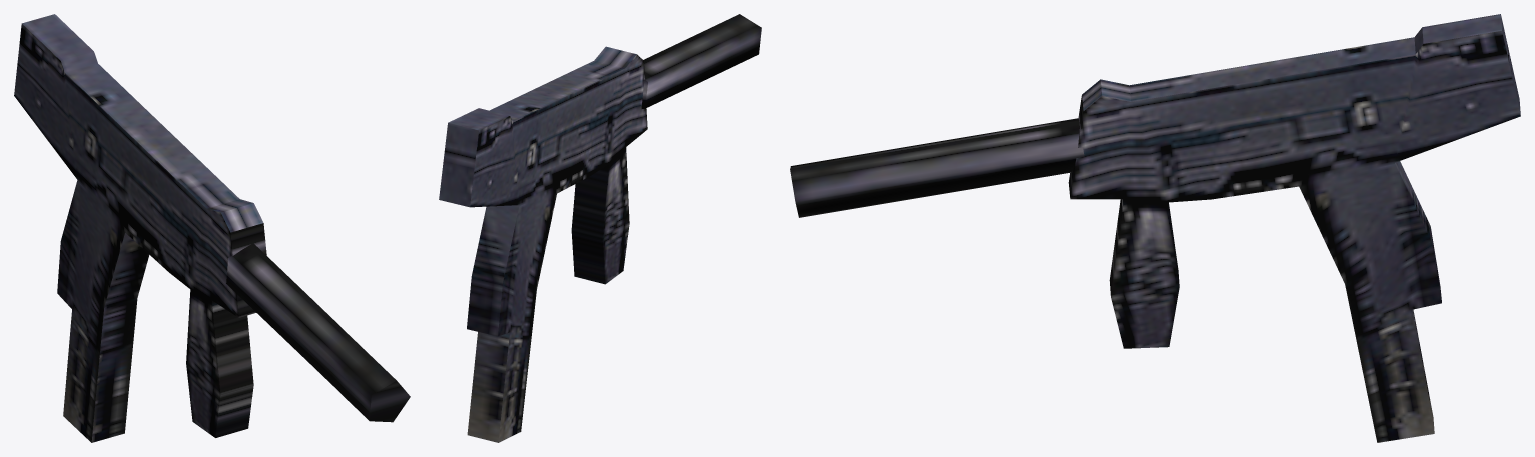
File: tmp-world.glb
3 views of the same model, side by side, from view 1: azimuth 30°, elevation 25°; view 2: azimuth 150°, elevation 25°; view 3: azimuth 270°, elevation 25° (orthographic). The views are drawn at different scales.
Visible parts, largest first — view 1: tmp held; view 2: tmp held; view 3: tmp held.
Part boxes in pixels (box(x1,y1,x2,y2)): tmp held: box(14, 14, 410, 442); tmp held: box(439, 14, 761, 442); tmp held: box(790, 14, 1520, 442).
Size of the model in its own units: 0.0417 by 0.2552 by 0.4153.
Materials: 1 (1 with a texture image).
